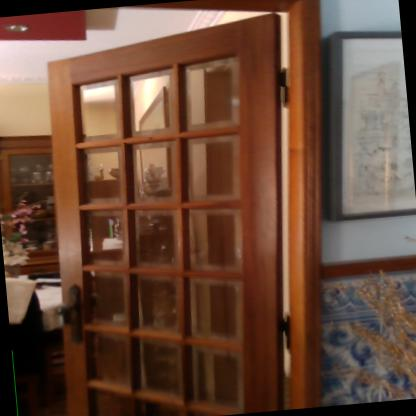semi: (0, 0, 352, 415)
